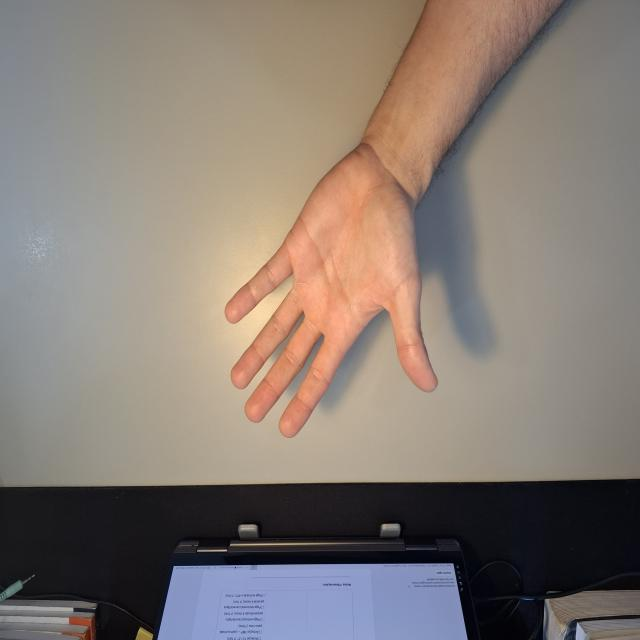glove_off: (223, 141, 440, 441)
